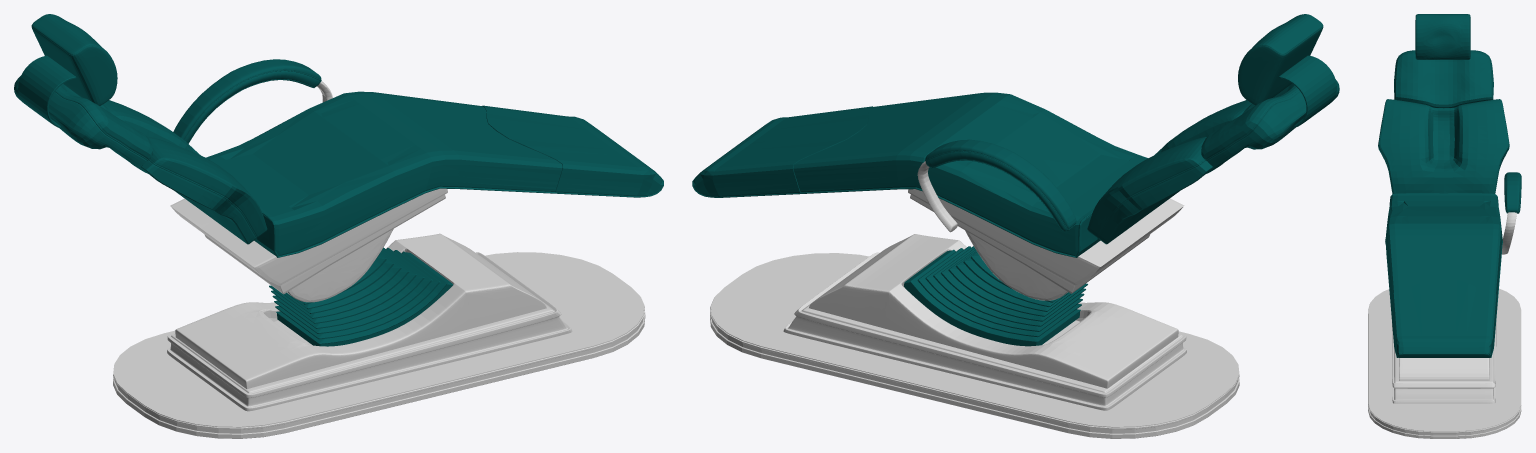
File: SurgeryChair.fbx
3 views of the same model, side by side, from view 1: azimuth 30°, elevation 25°; view 2: azimuth 150°, elevation 25°; view 3: azimuth 270°, elevation 25° (orthographic). The views are drawn at different scales.
Parts seen in each view (by area): view 1: Dentist_s_place_of_work.002_Dentist_s_place_of_work.001, Dentist_s_place_of_work.004_Dentist_s_place_of_work.003, Dentist_s_place_of_work.005_Dentist_s_place_of_work.004, Dentist_s_place_of_work.006_Dentist_s_place_of_work.005, Dentist_s_place_of_work.008_Dentist_s_place_of_work.007, Dentist_s_place_of_work.007_Dentist_s_place_of_work.006, Dentist_s_place_of_work.009_Dentist_s_place_of_work.008; view 2: Dentist_s_place_of_work.002_Dentist_s_place_of_work.001, Dentist_s_place_of_work.004_Dentist_s_place_of_work.003, Dentist_s_place_of_work.005_Dentist_s_place_of_work.004, Dentist_s_place_of_work.006_Dentist_s_place_of_work.005, Dentist_s_place_of_work.008_Dentist_s_place_of_work.007, Dentist_s_place_of_work.009_Dentist_s_place_of_work.008, Dentist_s_place_of_work.007_Dentist_s_place_of_work.006, Dentist_s_place_of_work.010_Dentist_s_place_of_work.009; view 3: Dentist_s_place_of_work.002_Dentist_s_place_of_work.001, Dentist_s_place_of_work.005_Dentist_s_place_of_work.004, Dentist_s_place_of_work.004_Dentist_s_place_of_work.003, Dentist_s_place_of_work.009_Dentist_s_place_of_work.008, Dentist_s_place_of_work.010_Dentist_s_place_of_work.009.
Part boxes in pixels (x1,y1,x2,y2): Dentist_s_place_of_work.002_Dentist_s_place_of_work.001: (14, 14, 663, 257); Dentist_s_place_of_work.004_Dentist_s_place_of_work.003: (167, 233, 572, 411); Dentist_s_place_of_work.005_Dentist_s_place_of_work.004: (113, 252, 645, 438); Dentist_s_place_of_work.006_Dentist_s_place_of_work.005: (269, 247, 452, 346); Dentist_s_place_of_work.008_Dentist_s_place_of_work.007: (170, 188, 447, 285); Dentist_s_place_of_work.007_Dentist_s_place_of_work.006: (204, 194, 445, 302); Dentist_s_place_of_work.009_Dentist_s_place_of_work.008: (173, 59, 321, 143); Dentist_s_place_of_work.002_Dentist_s_place_of_work.001: (692, 14, 1339, 257); Dentist_s_place_of_work.004_Dentist_s_place_of_work.003: (783, 234, 1186, 410); Dentist_s_place_of_work.005_Dentist_s_place_of_work.004: (710, 253, 1239, 438); Dentist_s_place_of_work.006_Dentist_s_place_of_work.005: (904, 246, 1087, 346); Dentist_s_place_of_work.008_Dentist_s_place_of_work.007: (908, 189, 1184, 285); Dentist_s_place_of_work.009_Dentist_s_place_of_work.008: (925, 139, 1076, 231); Dentist_s_place_of_work.007_Dentist_s_place_of_work.006: (910, 194, 1149, 300); Dentist_s_place_of_work.010_Dentist_s_place_of_work.009: (917, 161, 957, 232); Dentist_s_place_of_work.002_Dentist_s_place_of_work.001: (1378, 14, 1509, 357); Dentist_s_place_of_work.005_Dentist_s_place_of_work.004: (1368, 288, 1521, 438); Dentist_s_place_of_work.004_Dentist_s_place_of_work.003: (1392, 322, 1496, 403); Dentist_s_place_of_work.009_Dentist_s_place_of_work.008: (1504, 172, 1521, 213); Dentist_s_place_of_work.010_Dentist_s_place_of_work.009: (1502, 212, 1516, 254).
Bounding box in the file's own units: 5.02 × 3.21 × 1.77.
